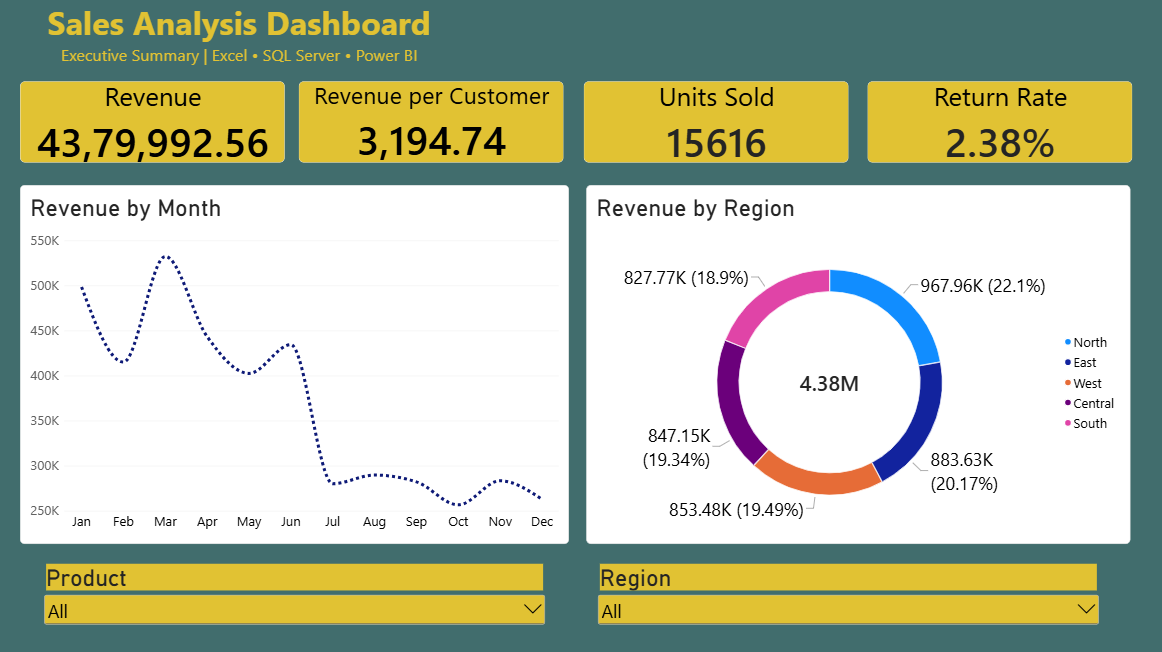

This screenshot's page, from the dashboard's own definition file:
{"tool":"powerbi","page":{"name":"Page 1","canvas":[1920,1080],"ordinal":0},"visuals":[{"type":"cardVisual","fields":{"Data":["DAX Measures.Average Revenue Per Customer"]},"box":[491.3,134.8,437,134.8],"z":0},{"type":"cardVisual","fields":{"Data":["DAX Measures.Total Units Sold"]},"box":[960.9,134.8,437,134.8],"z":1000},{"type":"cardVisual","fields":{"Data":["DAX Measures.Return Rate %"]},"box":[1428.3,134.8,437,134.8],"z":2000},{"type":"textbox","box":[13,0,763,113],"z":3000},{"type":"cardVisual","fields":{"Data":["DAX Measures.Total Revenue"]},"box":[32.6,134.8,437,134.8],"z":4000},{"type":"donutChart","title":"Revenue by Region","fields":{"Category":["SalesAnalytics.Region"],"Y":["DAX Measures.Total Revenue"]},"box":[965.2,304.3,895.7,591.3],"z":5000},{"type":"lineChart","title":"Revenue by Month","fields":{"Category":["SalesAnalytics.Month"],"Y":["DAX Measures.Total Revenue"]},"box":[32.6,304.3,904.3,591.3],"z":6000},{"type":"slicer","fields":{"Values":["SalesAnalytics.Region"]},"box":[980.4,928.3,834.8,152.2],"z":7000},{"type":"slicer","fields":{"Values":["SalesAnalytics.Product"]},"box":[67.4,928.3,834.8,152.2],"z":8000}]}

Visuals, with their boxes in screenshot pixels (x1, y1, x2, y2), scaled from the page's 1920x1080 canvas onto the 1162x652 screenshot:
cardVisual - DAX Measures.Average Revenue Per Customer: {"left": 297, "top": 81, "right": 562, "bottom": 163}
cardVisual - DAX Measures.Total Units Sold: {"left": 582, "top": 81, "right": 846, "bottom": 163}
cardVisual - DAX Measures.Return Rate %: {"left": 864, "top": 81, "right": 1129, "bottom": 163}
textbox: {"left": 8, "top": 0, "right": 470, "bottom": 68}
cardVisual - DAX Measures.Total Revenue: {"left": 20, "top": 81, "right": 284, "bottom": 163}
"Revenue by Region" donutChart: {"left": 584, "top": 184, "right": 1126, "bottom": 541}
"Revenue by Month" lineChart: {"left": 20, "top": 184, "right": 567, "bottom": 541}
slicer - SalesAnalytics.Region: {"left": 593, "top": 560, "right": 1099, "bottom": 651}
slicer - SalesAnalytics.Product: {"left": 41, "top": 560, "right": 546, "bottom": 651}
